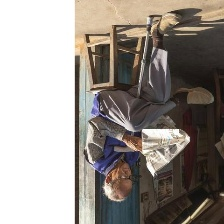news_paper: (133, 114, 192, 178)
